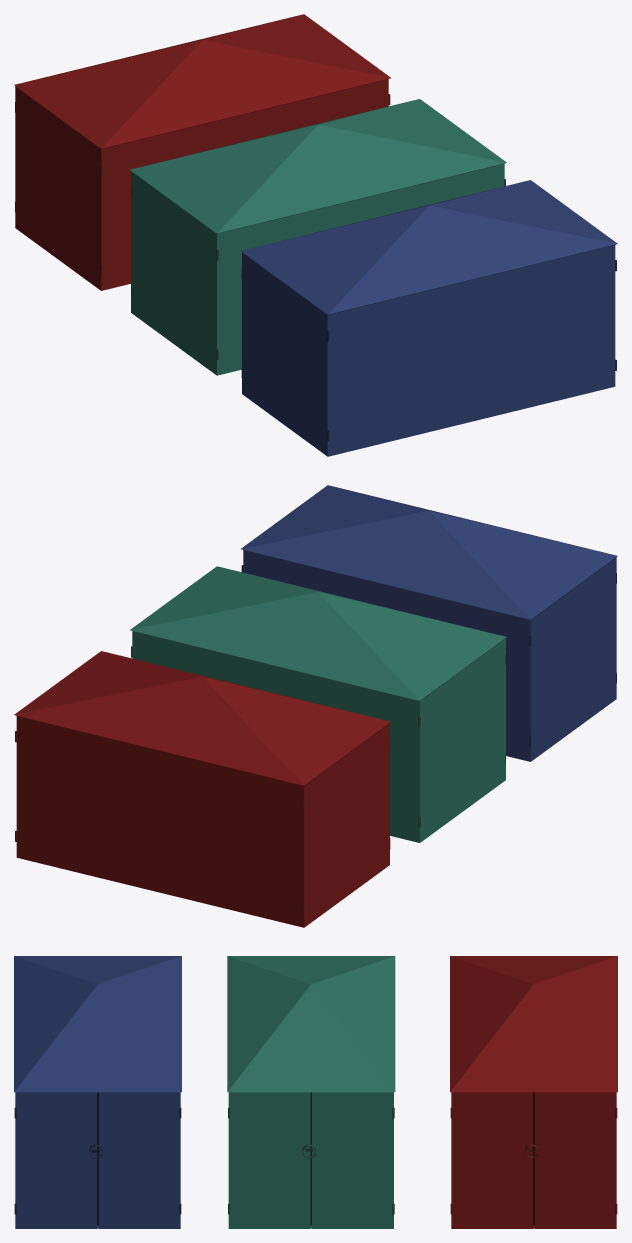
Rendered from ГАРАЖИ.fbx.
3 views of the same model, one above another, from view 1: azimuth 30°, elevation 25°; view 2: azimuth 150°, elevation 25°; view 3: azimuth 270°, elevation 25° (orthographic). The views are drawn at different scales.
Parts seen in each view (by area): view 1: Cube, Cube.004, Cube.002; view 2: Cube.004, Cube.002, Cube; view 3: Cube.002, Cube.004, Cube.
Boxes of the visible parts, x1=… form: Cube: x1=241, y1=180, x2=617, y2=456; Cube.004: x1=14, y1=14, x2=390, y2=290; Cube.002: x1=130, y1=99, x2=506, y2=375; Cube.004: x1=14, y1=651, x2=390, y2=927; Cube.002: x1=130, y1=566, x2=506, y2=842; Cube: x1=241, y1=485, x2=617, y2=761; Cube.002: x1=227, y1=956, x2=395, y2=1228; Cube.004: x1=450, y1=956, x2=617, y2=1228; Cube: x1=14, y1=956, x2=181, y2=1228.
Size of the model in its own units: 1367 by 822 by 2538.
